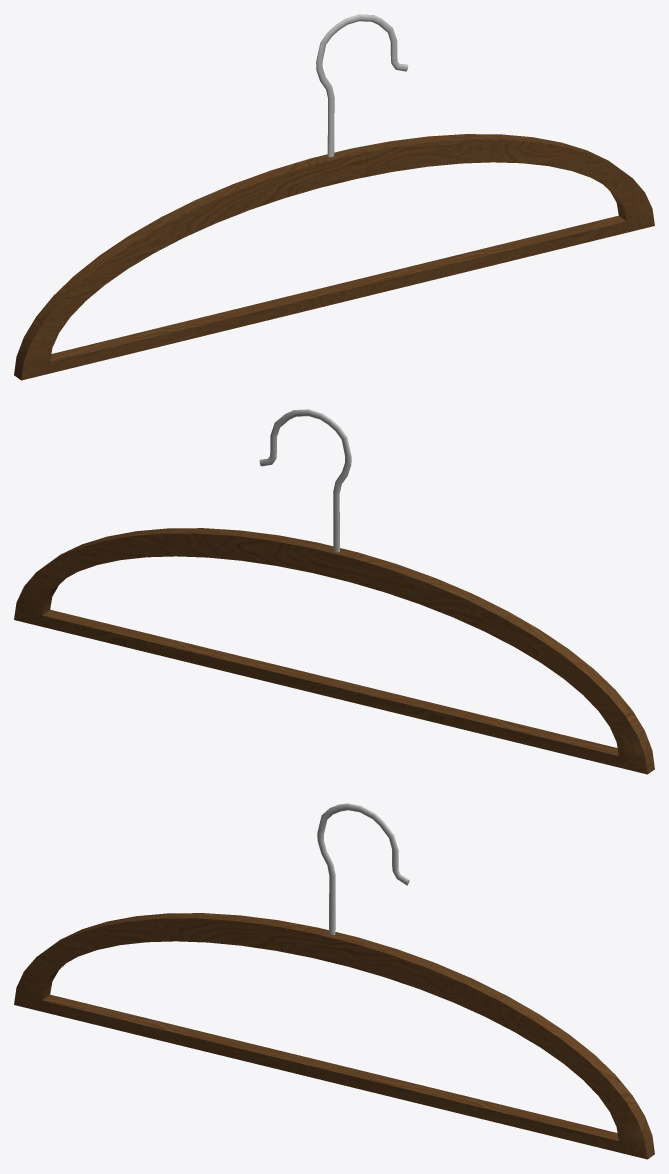
The model's file is TheMuraka_Int_Kleiderbügel.fbx.
The picture shows the model from 3 angles, top to bottom: view 1: azimuth 30°, elevation 25°; view 2: azimuth 150°, elevation 25°; view 3: azimuth 330°, elevation 25°; orthographic projection.
Visible parts, largest first — view 1: Kleiderhaken; view 2: Kleiderhaken; view 3: Kleiderhaken.
Part boxes in pixels (box(x1,y1,x2,y2)): Kleiderhaken: box(14, 14, 654, 380); Kleiderhaken: box(14, 409, 654, 774); Kleiderhaken: box(14, 803, 654, 1159).
Bounding box in the file's own units: 43.07 × 18.14 × 0.9382.
